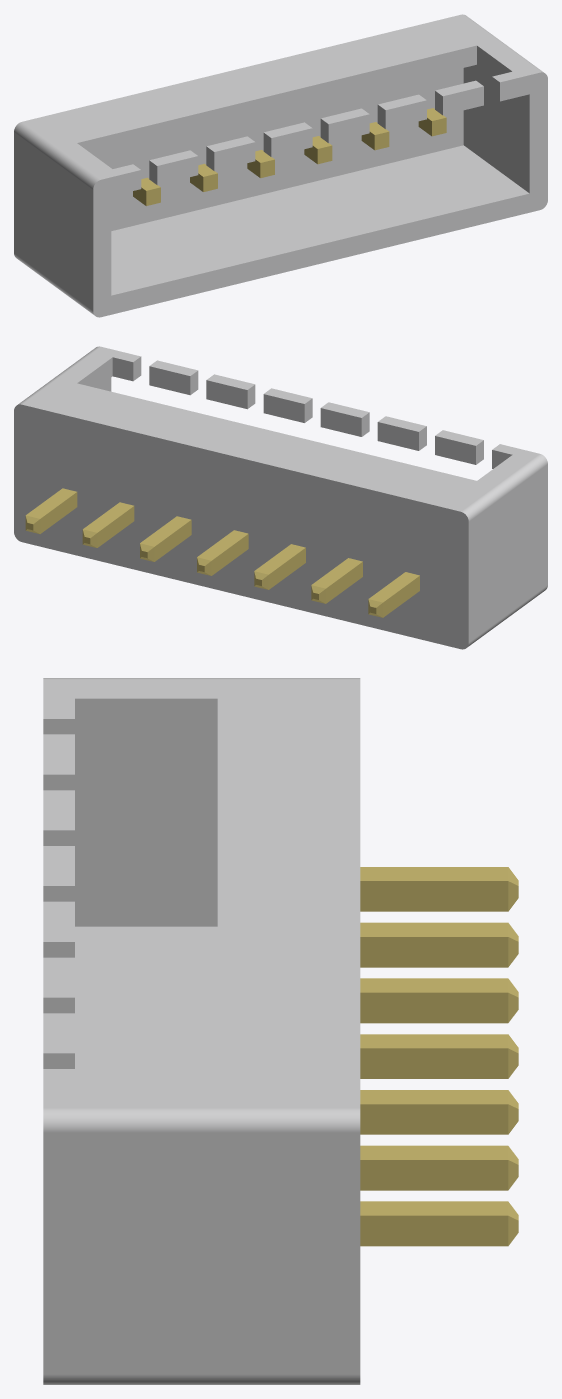
File: jst_xh_7pin.glb
3 views of the same model, one above another, from view 1: azimuth 30°, elevation 25°; view 2: azimuth 150°, elevation 25°; view 3: azimuth 270°, elevation 25° (orthographic). The views are drawn at different scales.
Visible parts, largest first — view 1: world; view 2: world; view 3: world.
Part boxes in pixels (left/top/right/bottom): world: left=14, top=14, right=547, bottom=317; world: left=14, top=346, right=547, bottom=649; world: left=43, top=678, right=518, bottom=1384.
Bounding box in the file's own units: 19.9 × 5.75 × 9.
